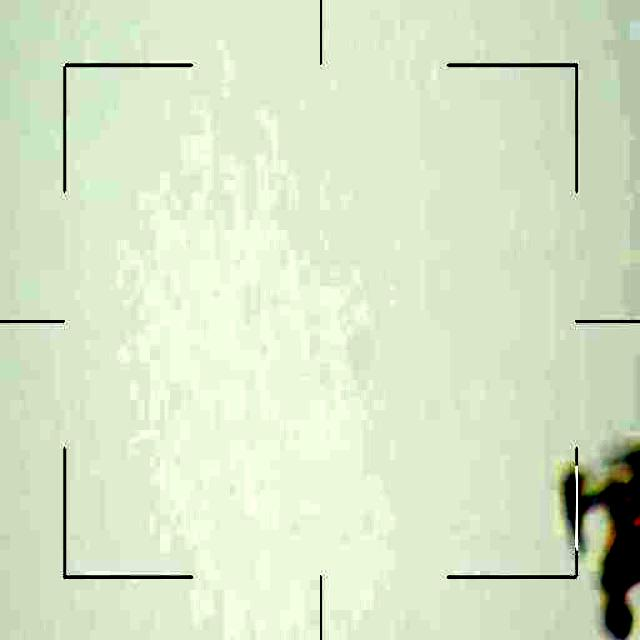bird: (546, 436, 640, 640)
